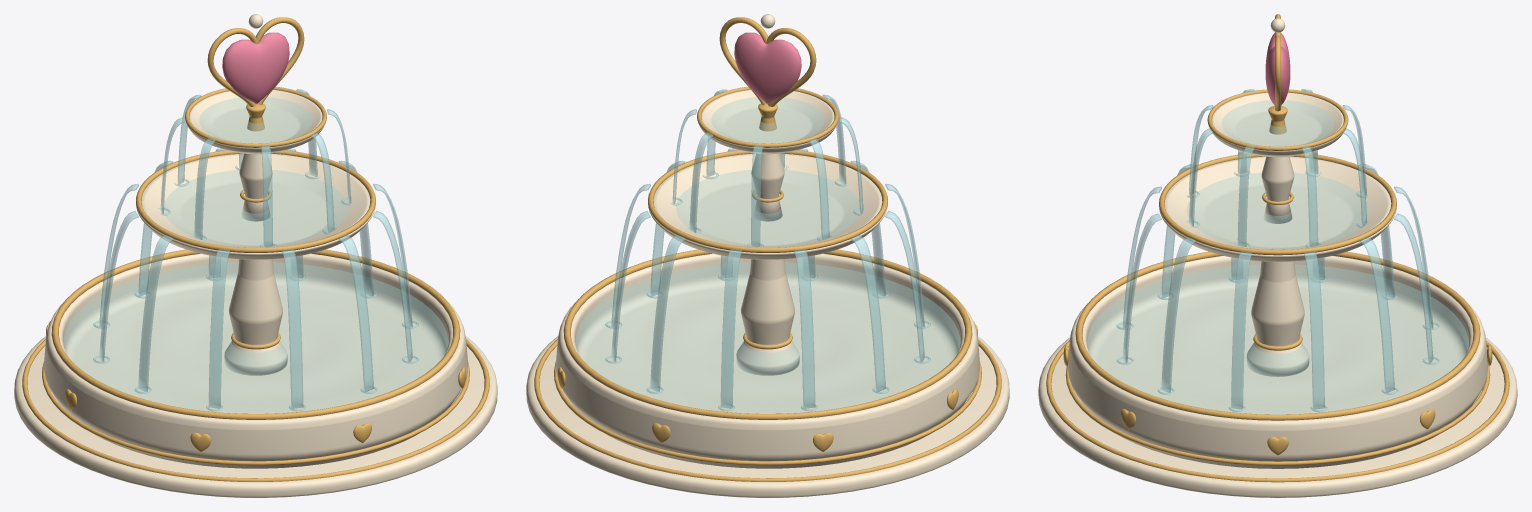
Rendered from fountain-of-kindness.glb.
3 renders of one model, left to right at view 1: azimuth 30°, elevation 25°; view 2: azimuth 150°, elevation 25°; view 3: azimuth 270°, elevation 25°, orthographic.
Parts seen in each view (by area): view 1: FountainOfKindness; view 2: FountainOfKindness; view 3: FountainOfKindness.
Part boxes in pixels (box(x1,y1,x2,y2)): FountainOfKindness: box(14, 14, 497, 497); FountainOfKindness: box(526, 14, 1009, 497); FountainOfKindness: box(1038, 14, 1517, 497).
Bounding box in the file's own units: 4.6 × 4.01 × 4.6.
